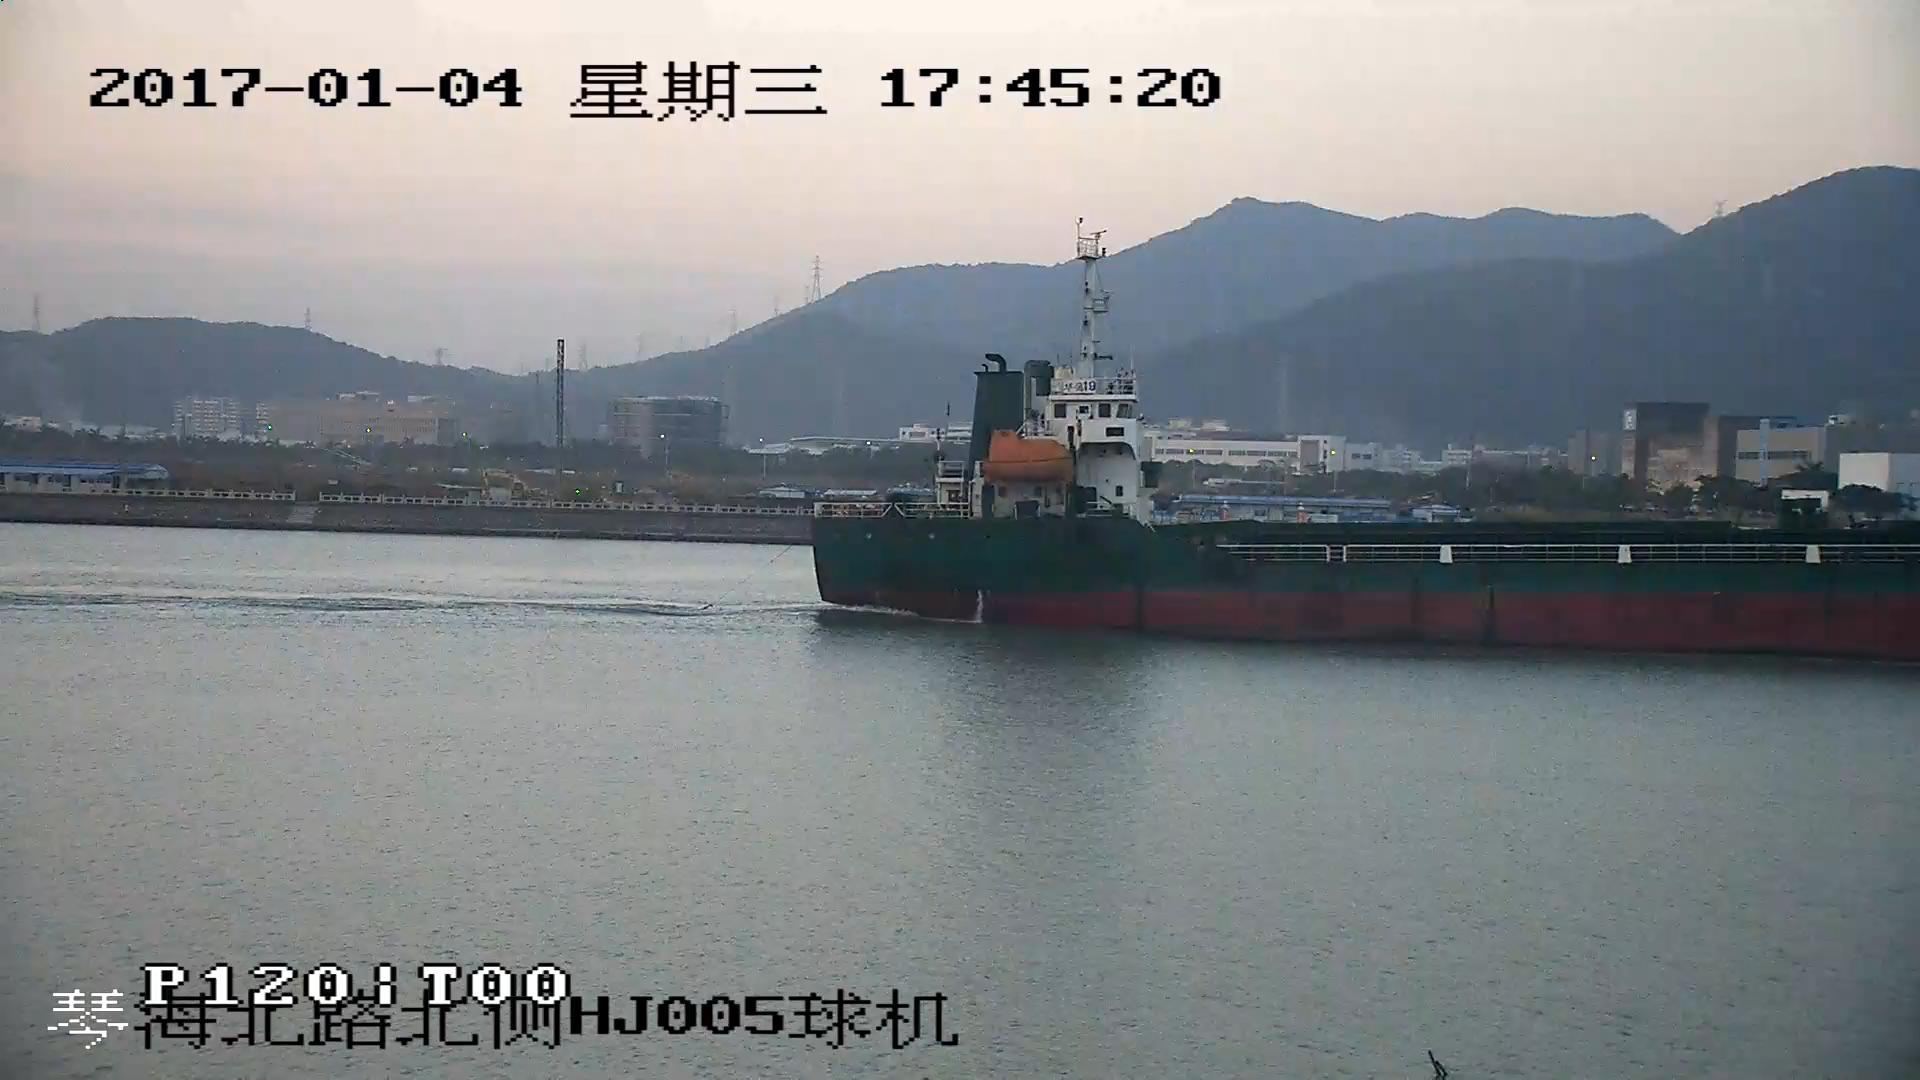Ship: (804, 236, 1920, 655)
